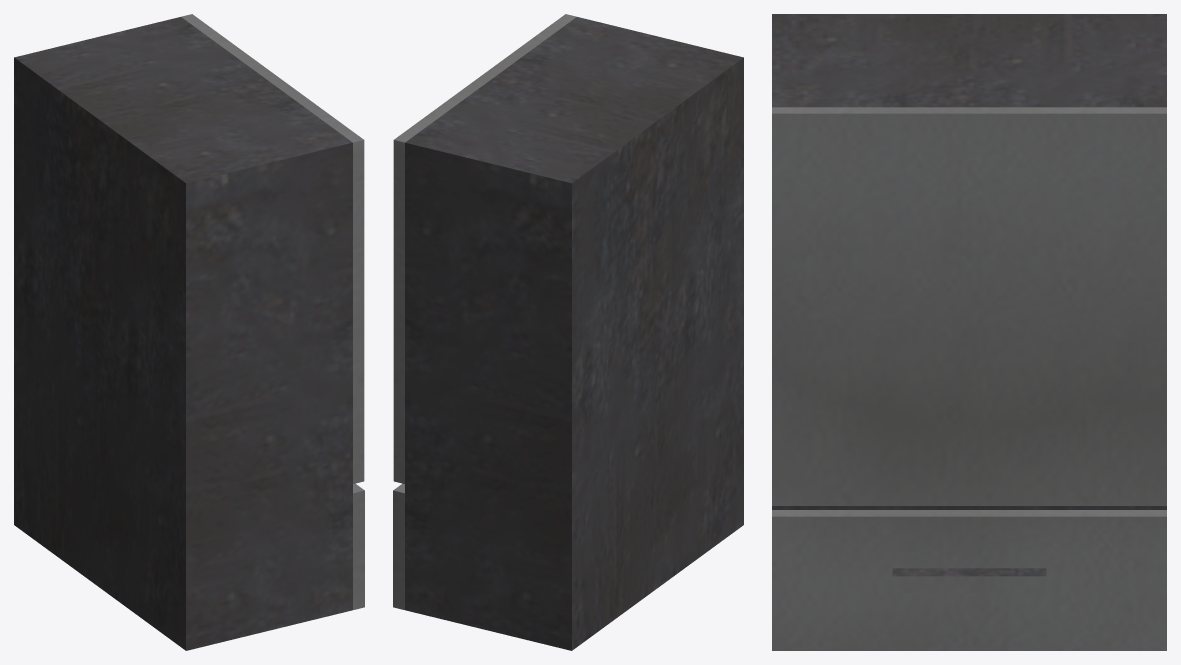
File: Fridge.fbx
3 views of the same model, side by side, from view 1: azimuth 30°, elevation 25°; view 2: azimuth 150°, elevation 25°; view 3: azimuth 270°, elevation 25° (orthographic). The views are drawn at different scales.
Visible parts, largest first — view 1: Fridge; view 2: Fridge; view 3: Fridge.
Boxes of the visible parts, x1=… form: Fridge: x1=14, y1=14, x2=364, y2=650; Fridge: x1=393, y1=14, x2=743, y2=650; Fridge: x1=772, y1=14, x2=1166, y2=650.
Size of the model in its own units: 615 by 1424 by 949.
1 material, 1 textured.
